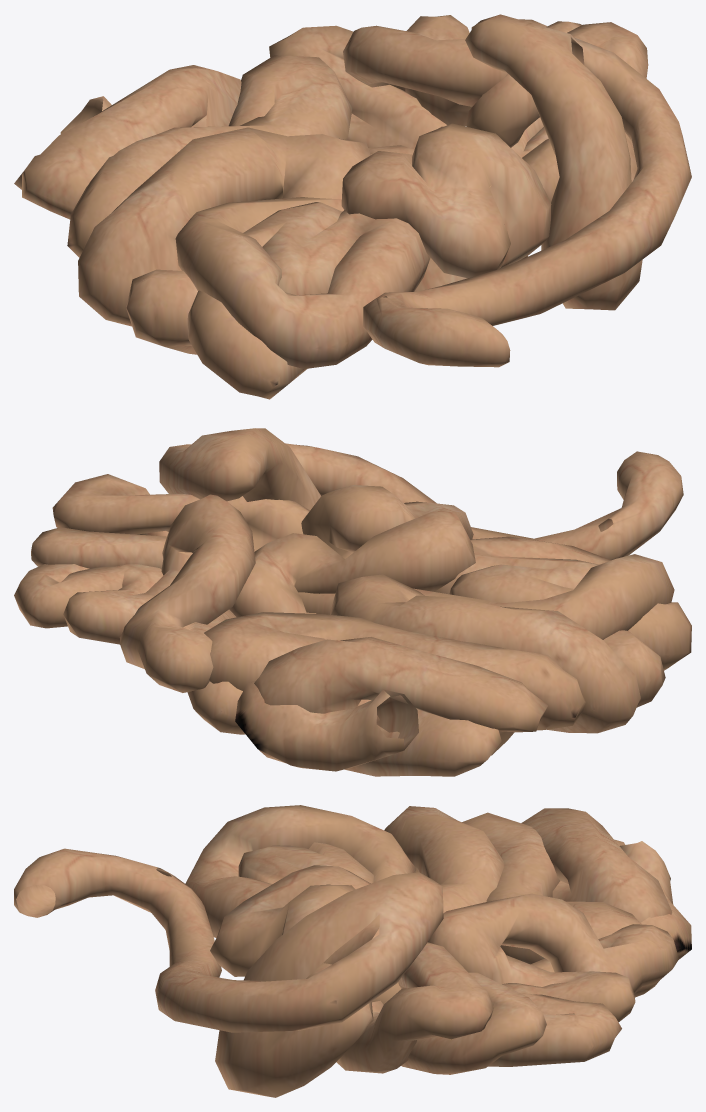
File: SmallIntestine.fbx
The picture shows the model from 3 angles, top to bottom: view 1: azimuth 30°, elevation 25°; view 2: azimuth 150°, elevation 25°; view 3: azimuth 270°, elevation 25°; orthographic projection. The views are drawn at different scales.
Parts seen in each view (by area): view 1: SmallIntestine; view 2: SmallIntestine; view 3: SmallIntestine.
Part boxes in pixels (x1,y1,x2,y2): SmallIntestine: [14, 14, 691, 399]; SmallIntestine: [14, 428, 691, 776]; SmallIntestine: [14, 805, 691, 1097].
Size of the model in its own units: 1857 by 760 by 2032.
1 material, 1 textured.
